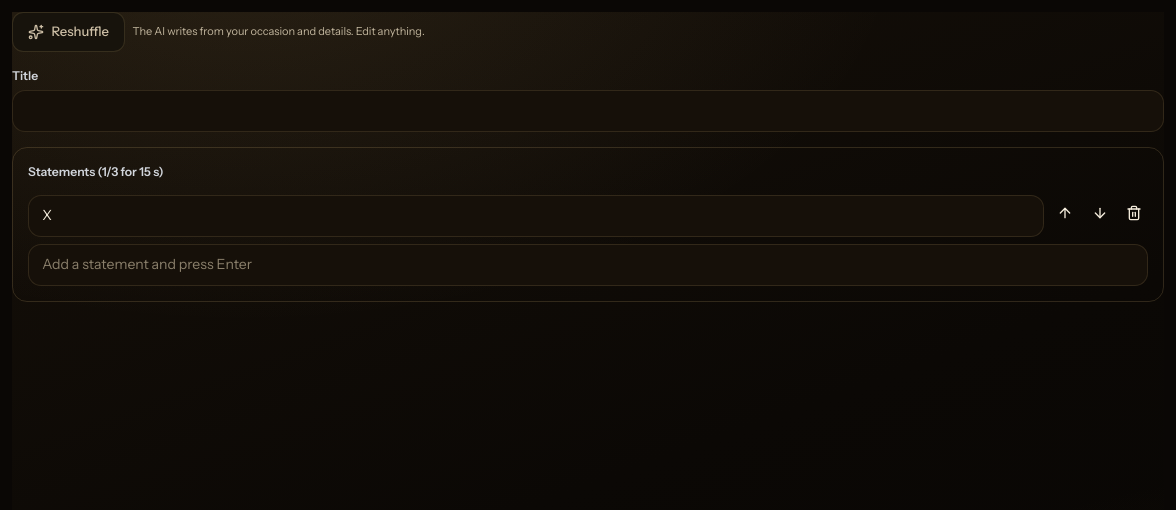
Test: MomentsWordsStep › Add verse at the length limit › is enabled while there is room
Click the button "Reshuffle" at (68, 32), box x1=12 y1=12 x2=125 y2=52
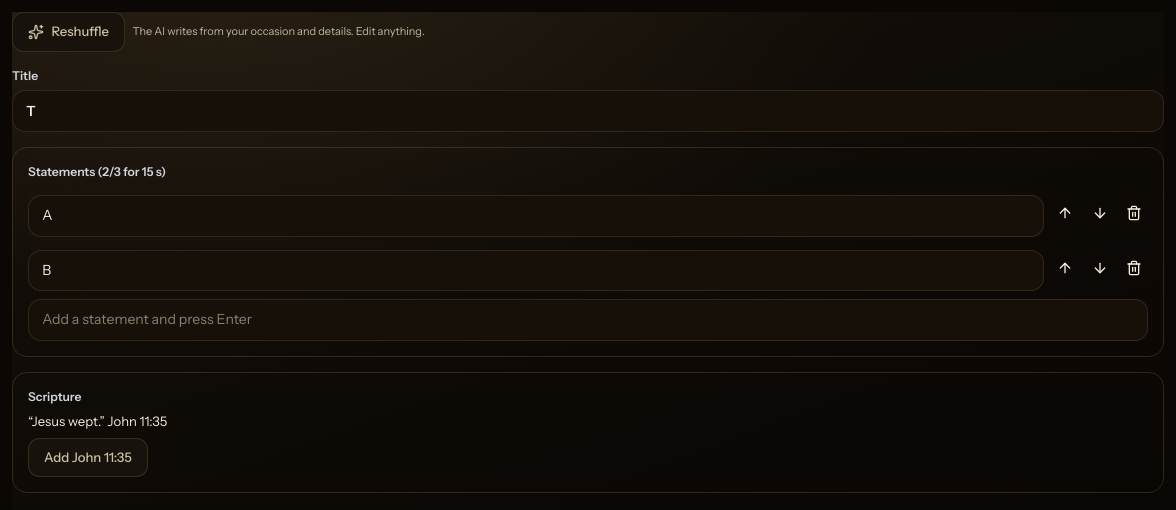
Now the button "Add John 11:35" is enabled, box x1=28 y1=438 x2=148 y2=478
